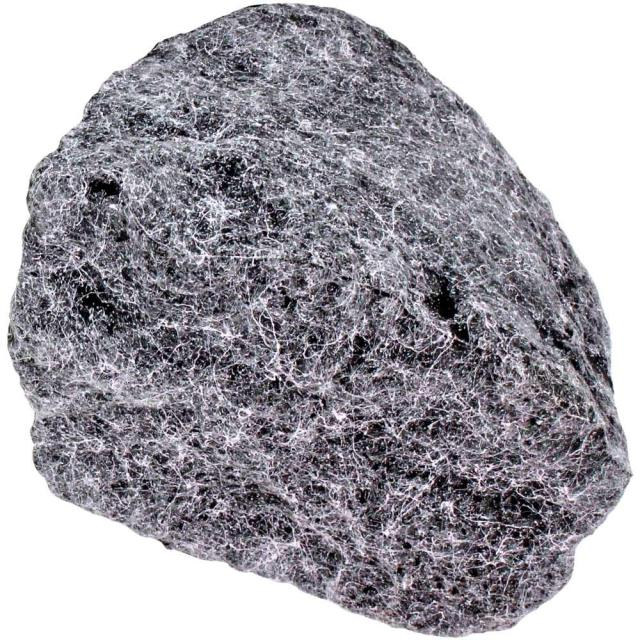Igneous: (3, 3, 634, 638)
